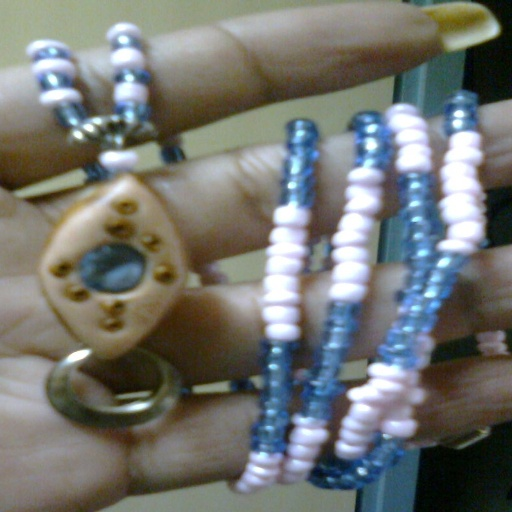hand: (0, 0, 510, 511)
